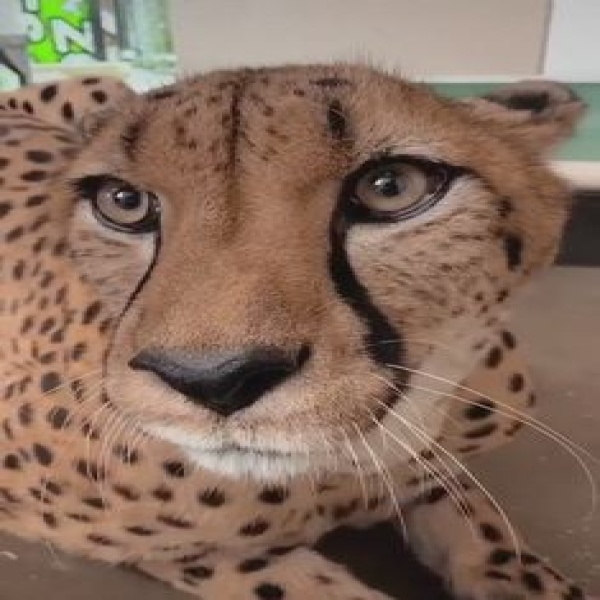Cheetah: (1, 59, 594, 600)
